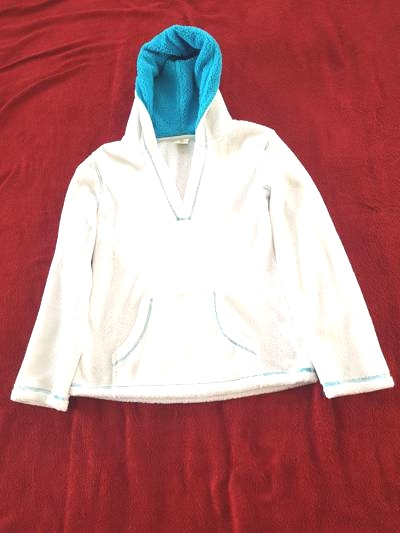Hoodie: (10, 26, 398, 432)
